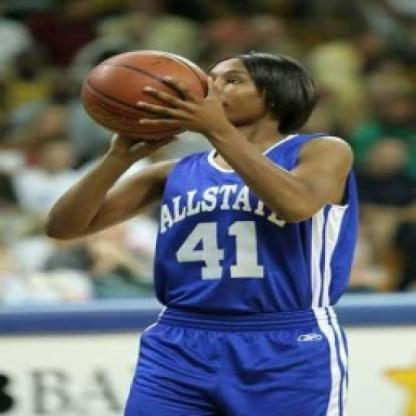basketball: (78, 46, 212, 142)
